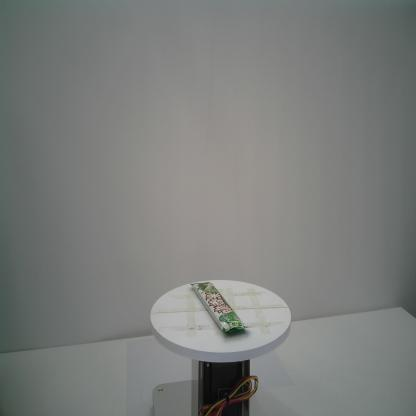Chocolate: (191, 281, 251, 334)
